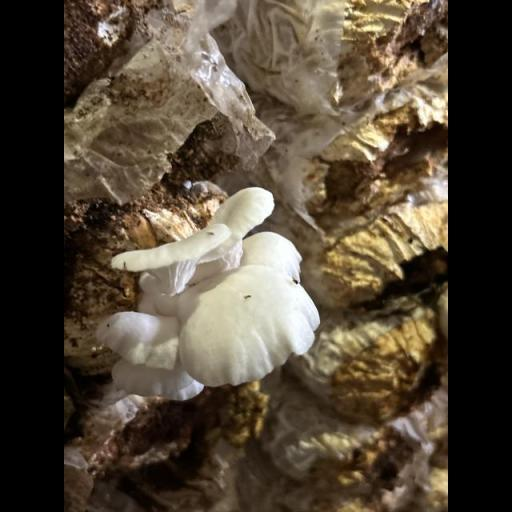White Oyster Mushroom: (99, 189, 317, 395)
